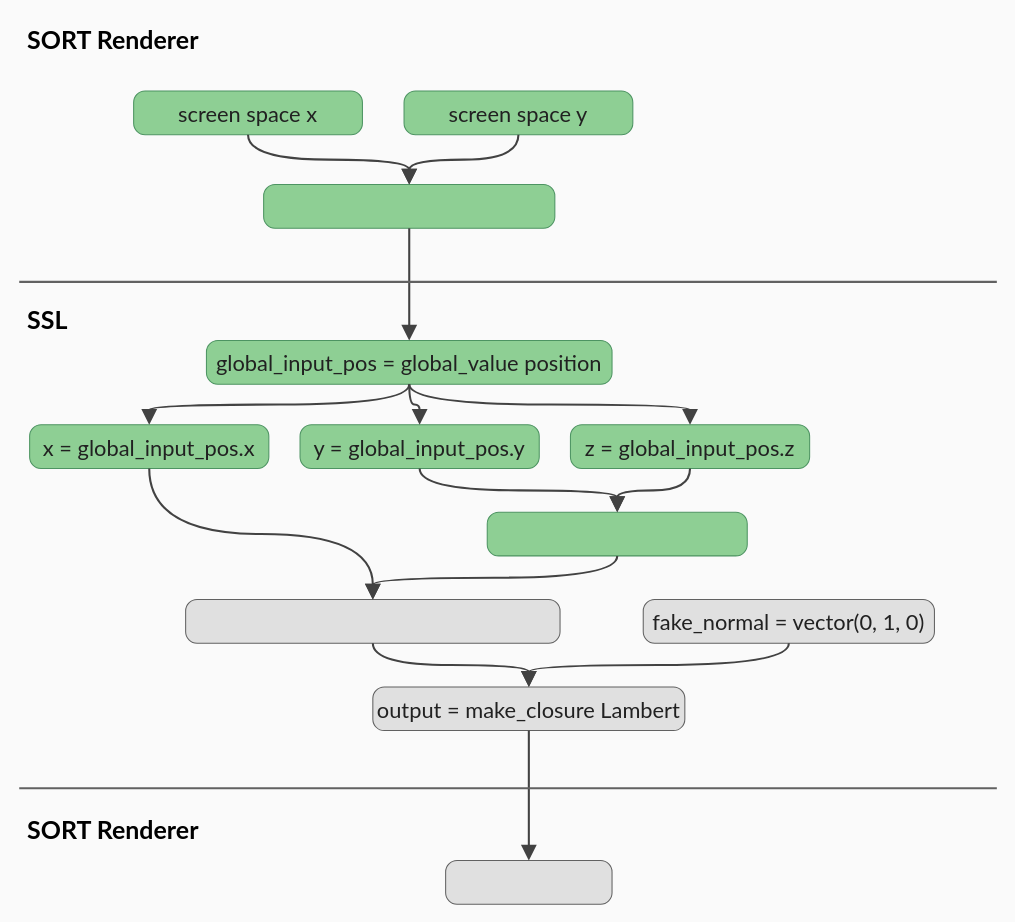
The diagram is 1015 pixels wide and 922 high, and some of its shapes have lost their labels. Here are the shapes that lost their labels. From the top down, the centre of each, then its label:
At point 409,206: "position = f(x, y)".
At point 616,533: "v = eval_practical(y, z)".
At point 372,621: "basecolor = texture2d_sample(x, v)".
At point 528,882: "output".
